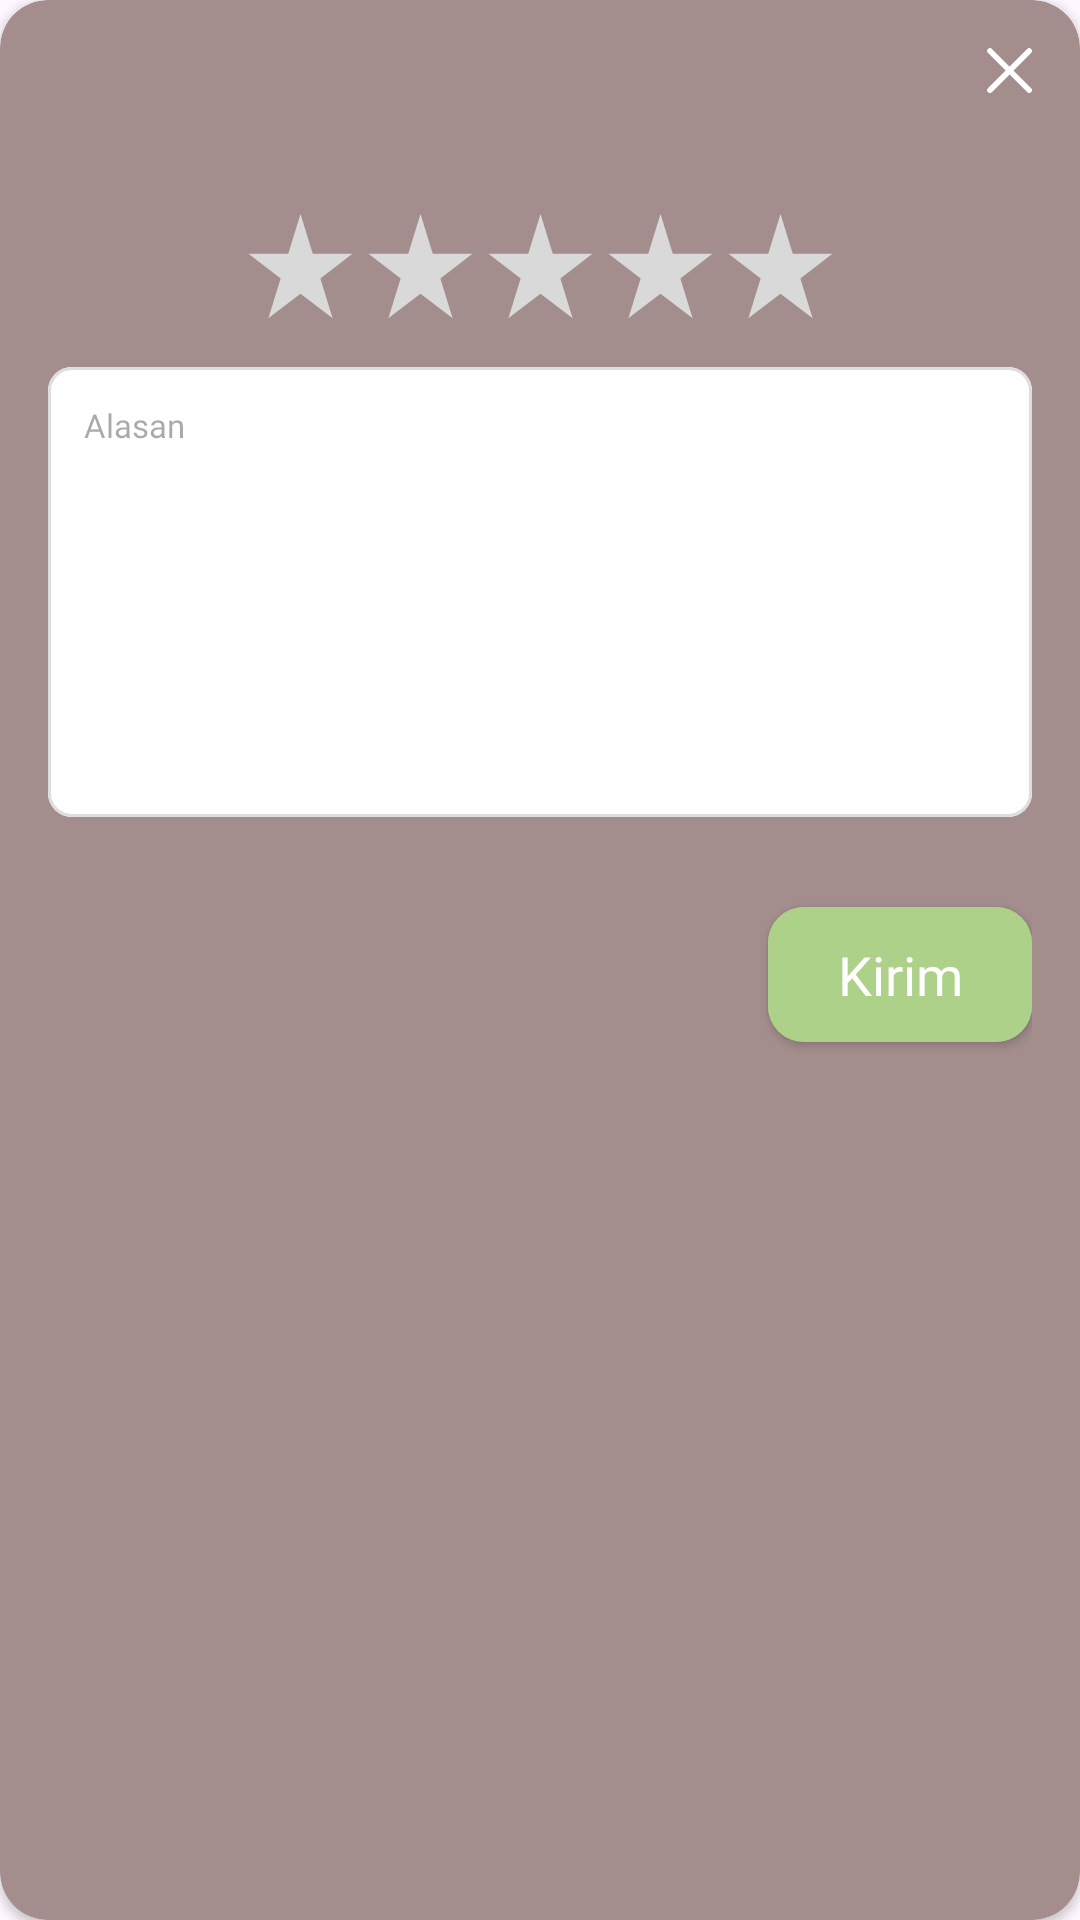

Locate icon controls on the screen. Image size 1080w x 1920h, boxes as {"left": x1, "top": y1, "right": x2, "bottom": y2}.
icon of stars: {"left": 249, "top": 215, "right": 352, "bottom": 318}, {"left": 369, "top": 215, "right": 472, "bottom": 318}, {"left": 489, "top": 215, "right": 592, "bottom": 318}, {"left": 609, "top": 215, "right": 712, "bottom": 318}, {"left": 729, "top": 215, "right": 832, "bottom": 318}
Icon popup close: {"left": 987, "top": 48, "right": 1032, "bottom": 93}
